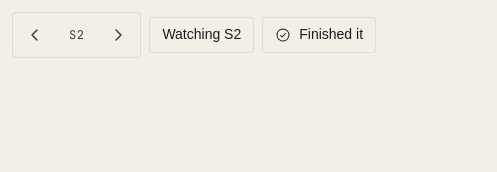
InProgressActions — finished it › opens the rating prompt when Finished it is clicked
The width and height of the screenshot is (497, 172).
Click the button "Finished it".
click(319, 35)  # box [262,17,376,53]
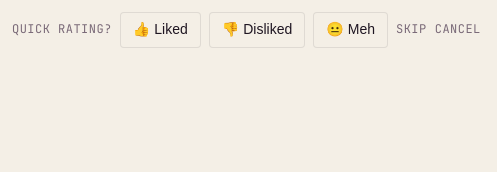
Now the element "Quick rating? 👍 Liked 👎 Disliked 😐 Meh Skip Cancel" is shown, box [12,12,481,48]
